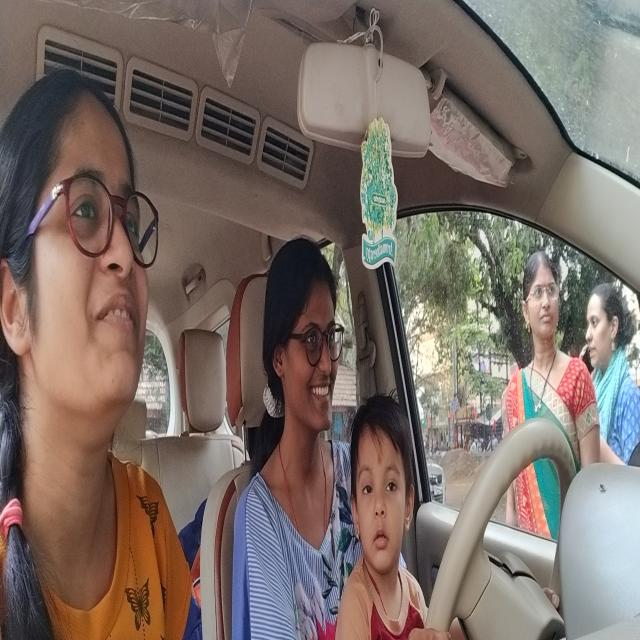child: (348, 386, 420, 584)
person: (0, 65, 168, 464), (260, 223, 348, 452)
